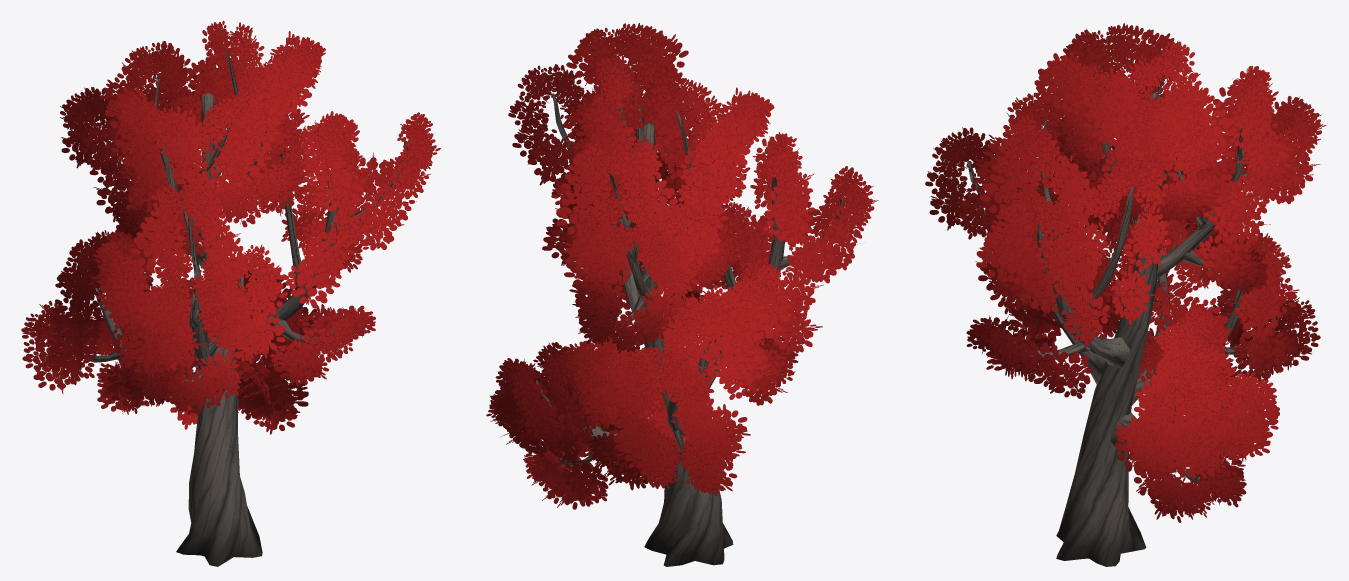
File: TwistedTree_3_s.gltf
3 renders of one model, left to right at view 1: azimuth 30°, elevation 25°; view 2: azimuth 150°, elevation 25°; view 3: azimuth 270°, elevation 25°, orthographic. The views are drawn at different scales.
Visible parts, largest first — view 1: TwistedTree_3; view 2: TwistedTree_3; view 3: TwistedTree_3.
Boxes of the visible parts, x1,y1,x2,y2 form: TwistedTree_3: (21,21,440,566); TwistedTree_3: (486,23,878,566); TwistedTree_3: (925,23,1326,566).
Size of the model in its own units: 11.36 by 16.07 by 11.51.
Materials: 2 (2 with a texture image).
